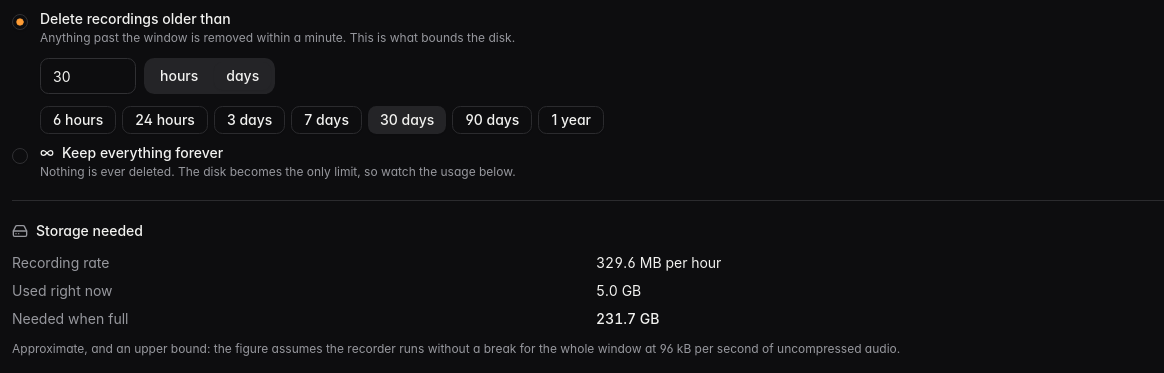
the retention settings card › changing the window › converts the window when switching to hours
Click the button "hours" at (179, 76), box [148,62,210,90]
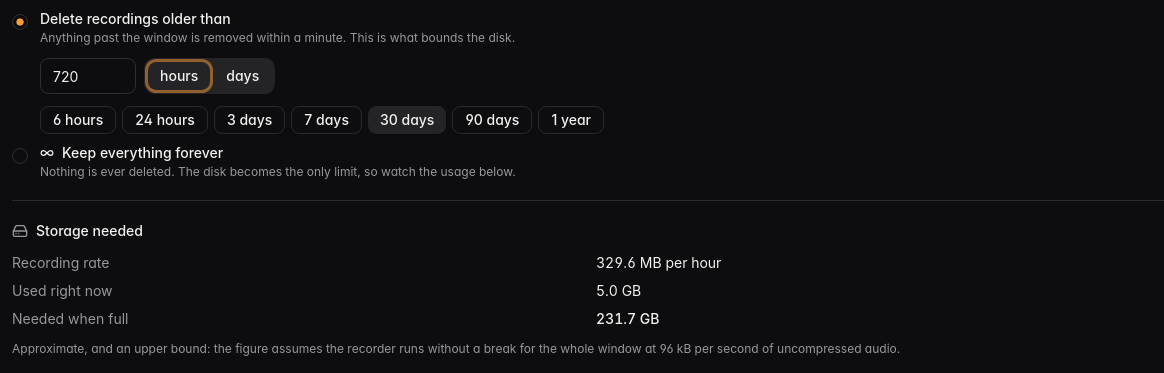
Check: the number field named "Retention amount" holds "720", box [40,58,136,94]
